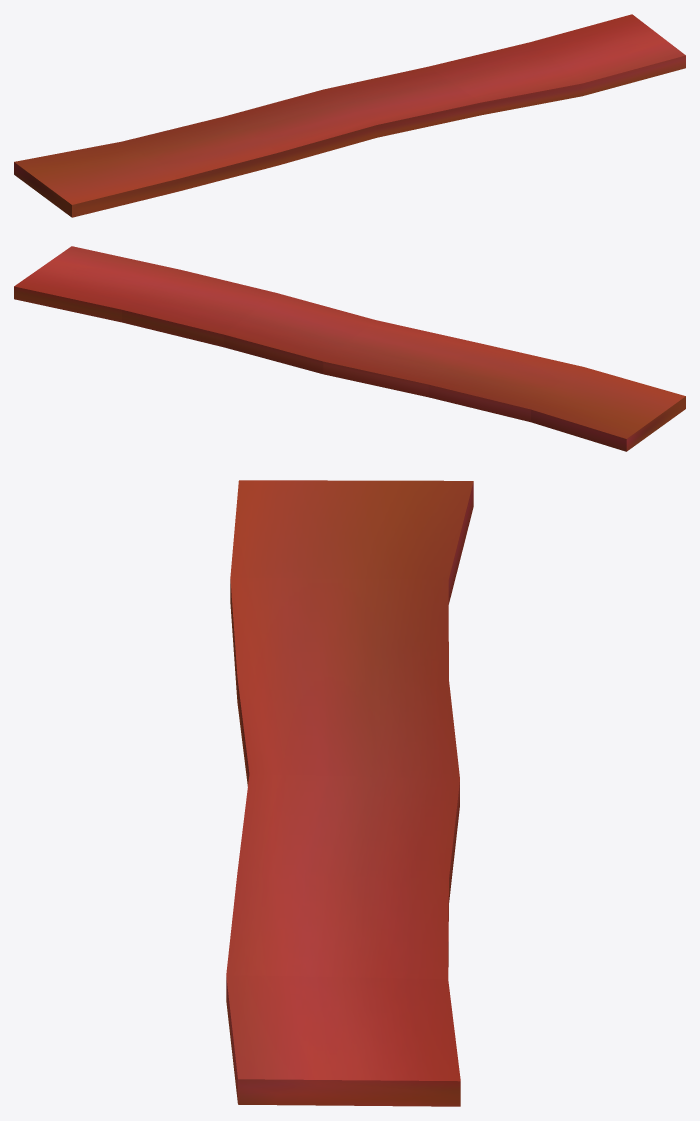
File: bacon.fbx
3 views of the same model, one above another, from view 1: azimuth 30°, elevation 25°; view 2: azimuth 150°, elevation 25°; view 3: azimuth 270°, elevation 25° (orthographic). The views are drawn at different scales.
Visible parts, largest first — view 1: Cube; view 2: Cube; view 3: Cube.
Boxes of the visible parts, x1=… form: Cube: x1=14, y1=14, x2=685, y2=217; Cube: x1=14, y1=246, x2=685, y2=451; Cube: x1=226, y1=480, x2=473, y2=1106.
Size of the model in its own units: 20.17 by 0.4947 by 3.51.
